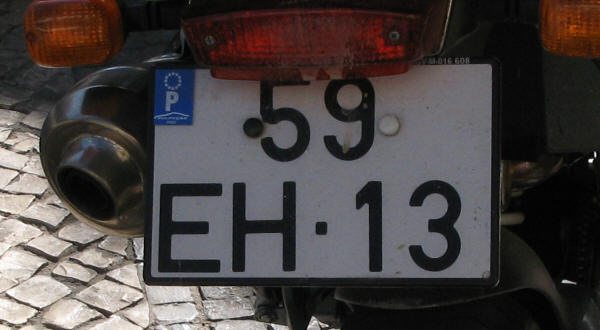license_plate: (143, 56, 500, 287)
